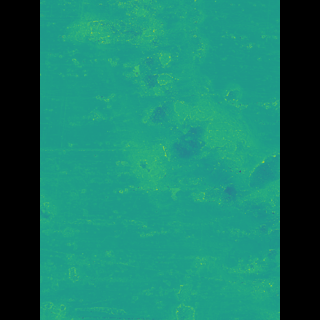Loch: (103, 0, 250, 320)
